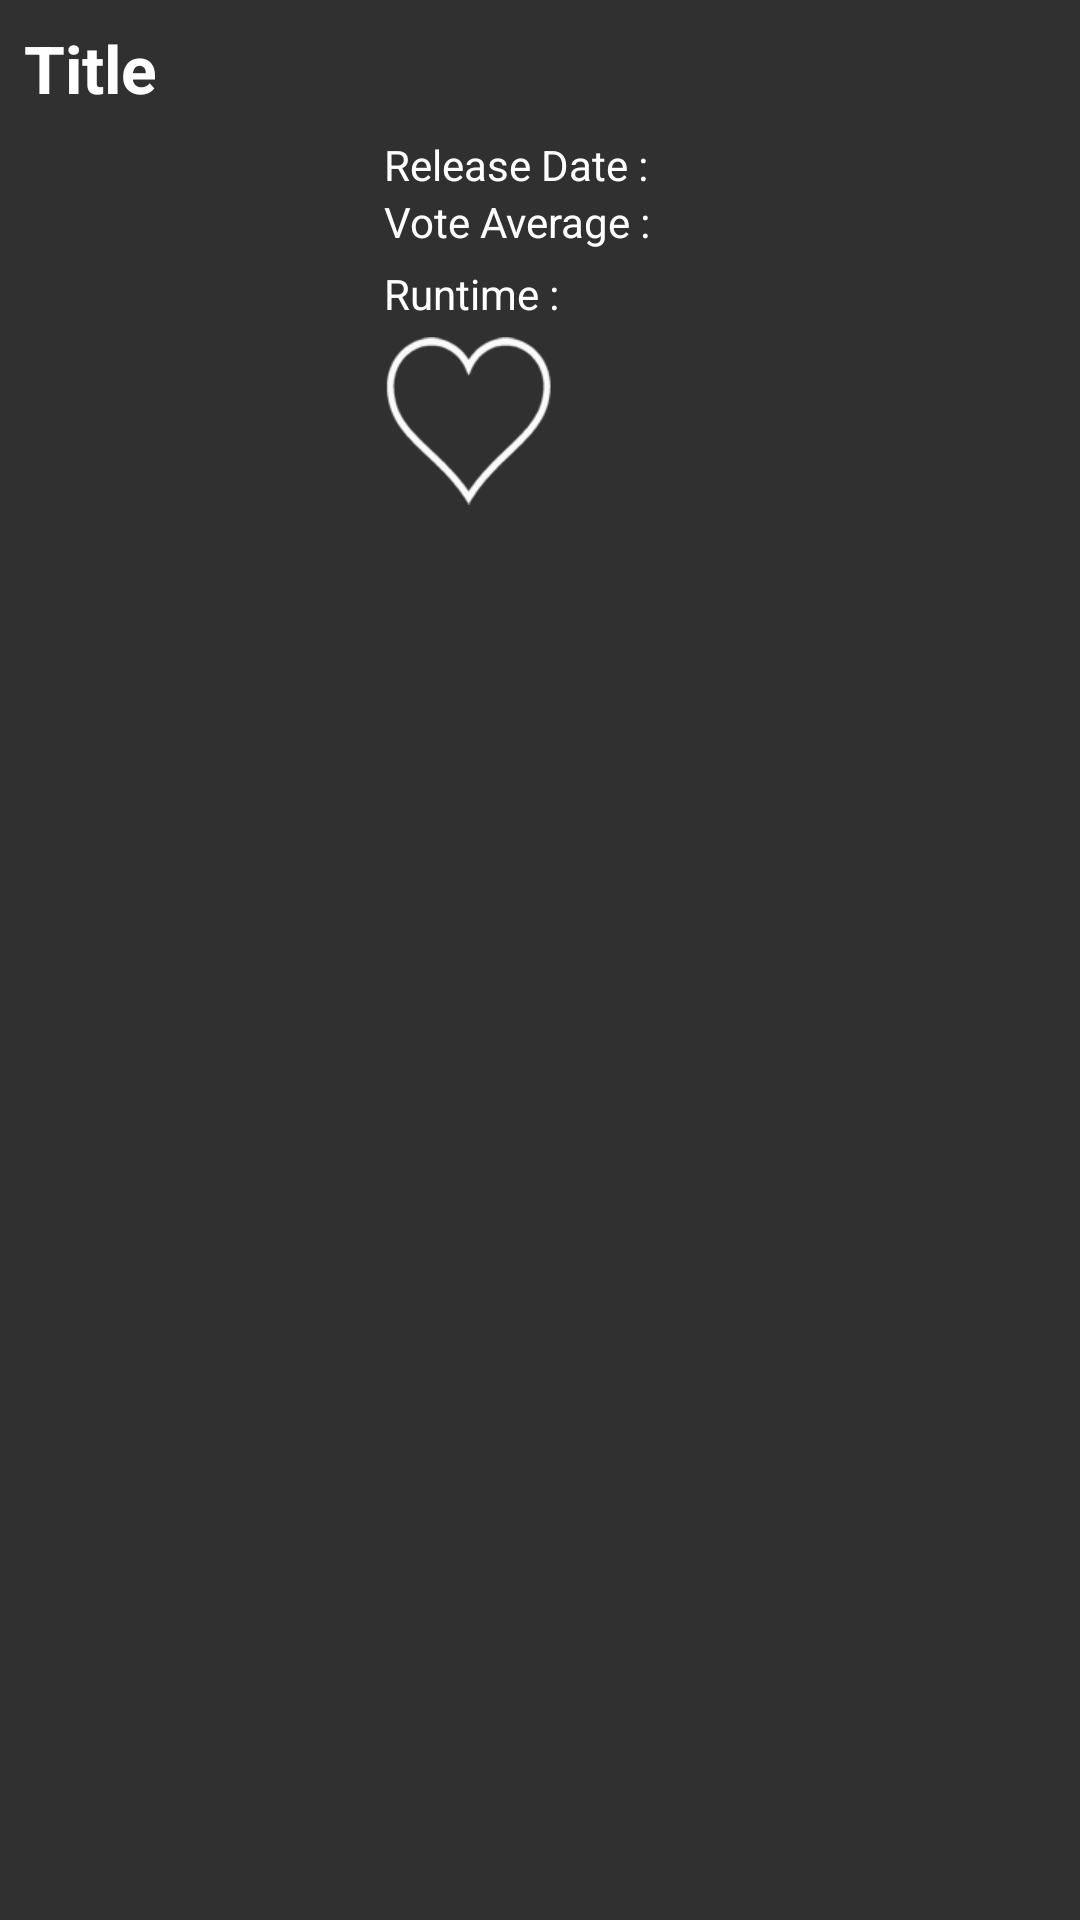

Icons on this 1080 × 1920 Android screen, each with its box as {"left": x1, "top": y1, "right": x2, "bottom": y2}:
fav: {"left": 386, "top": 337, "right": 551, "bottom": 505}
